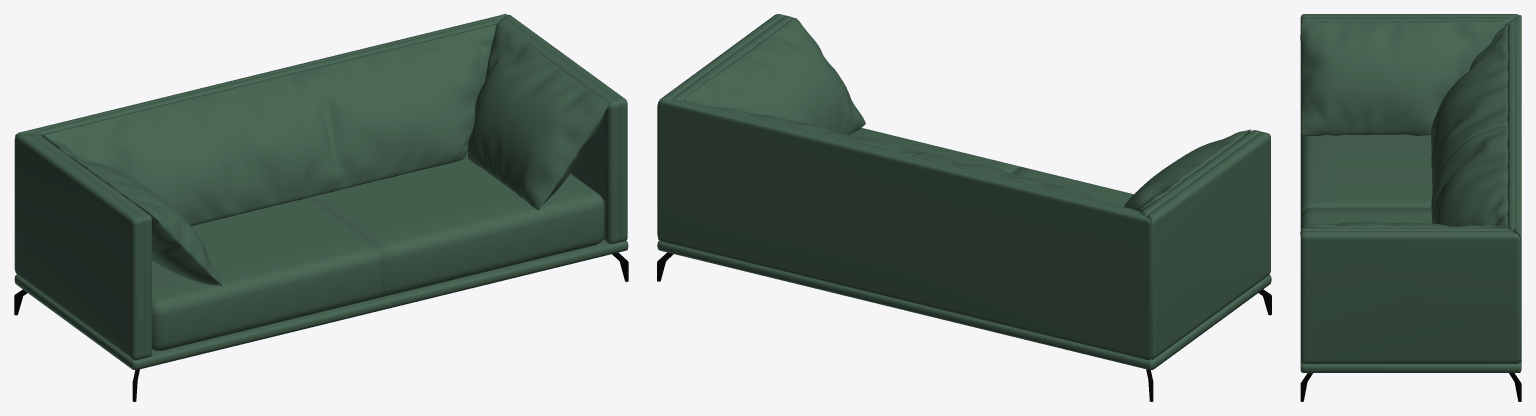
Rendered from sofa.glb.
The picture shows the model from 3 angles, left to right: view 1: azimuth 30°, elevation 25°; view 2: azimuth 150°, elevation 25°; view 3: azimuth 270°, elevation 25°; orthographic projection. The views are drawn at different scales.
Parts seen in each view (by area): view 1: COH_S_3S_4_BODY, 2COH_S_3S_4_LEGS; view 2: COH_S_3S_4_BODY, 2COH_S_3S_4_LEGS; view 3: COH_S_3S_4_BODY, 2COH_S_3S_4_LEGS.
Boxes of the visible parts, left/top/right/bottom form: COH_S_3S_4_BODY: left=14, top=14, right=628, bottom=370; 2COH_S_3S_4_LEGS: left=14, top=252, right=628, bottom=401; COH_S_3S_4_BODY: left=657, top=14, right=1271, bottom=369; 2COH_S_3S_4_LEGS: left=657, top=252, right=1271, bottom=401; COH_S_3S_4_BODY: left=1300, top=14, right=1521, bottom=372; 2COH_S_3S_4_LEGS: left=1300, top=373, right=1521, bottom=401.
Size of the model in its own units: 2.29 by 0.8022 by 0.9604.
